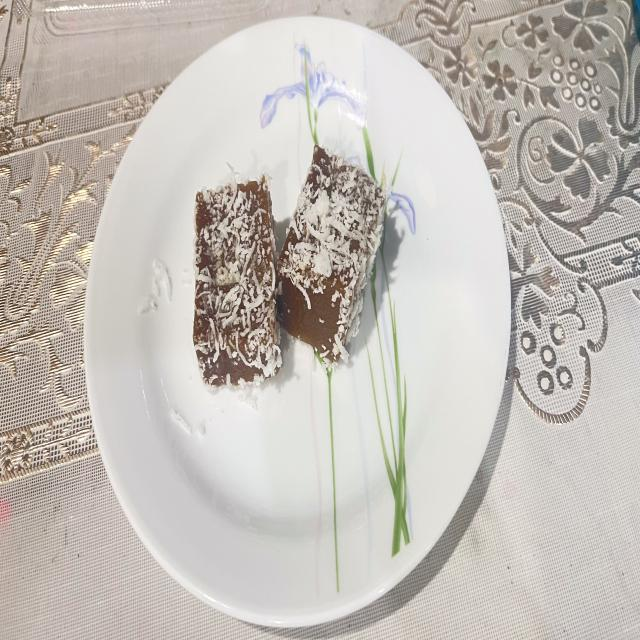kaswi: (278, 147, 386, 362), (194, 169, 281, 387)
